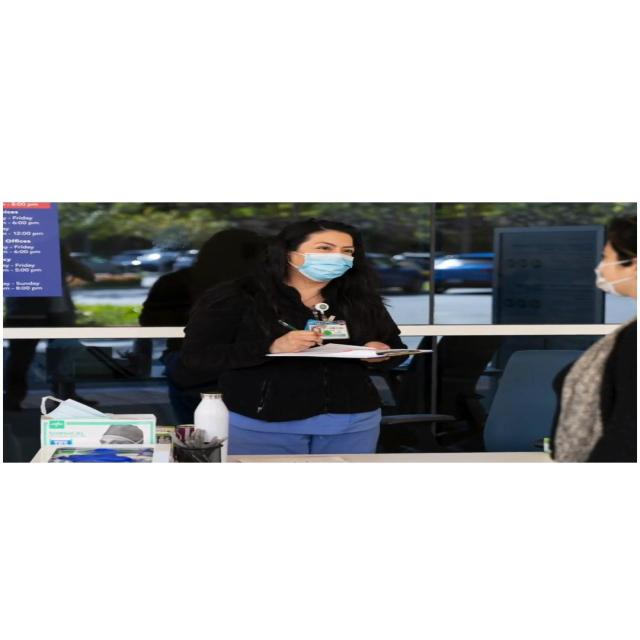Mask: (283, 230, 361, 284), (596, 243, 627, 295)
